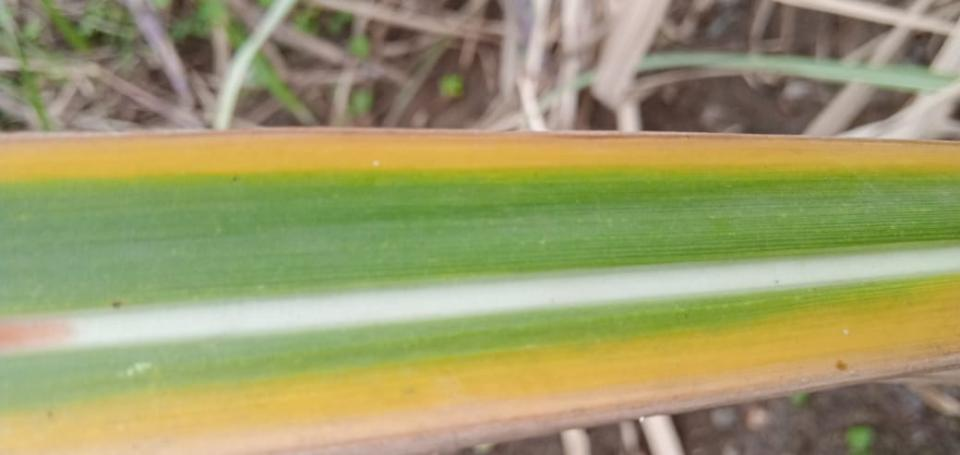RedRot: (0, 320, 77, 352)
Rust: (110, 301, 124, 311)
Yellow: (0, 306, 959, 454), (0, 129, 959, 177)
